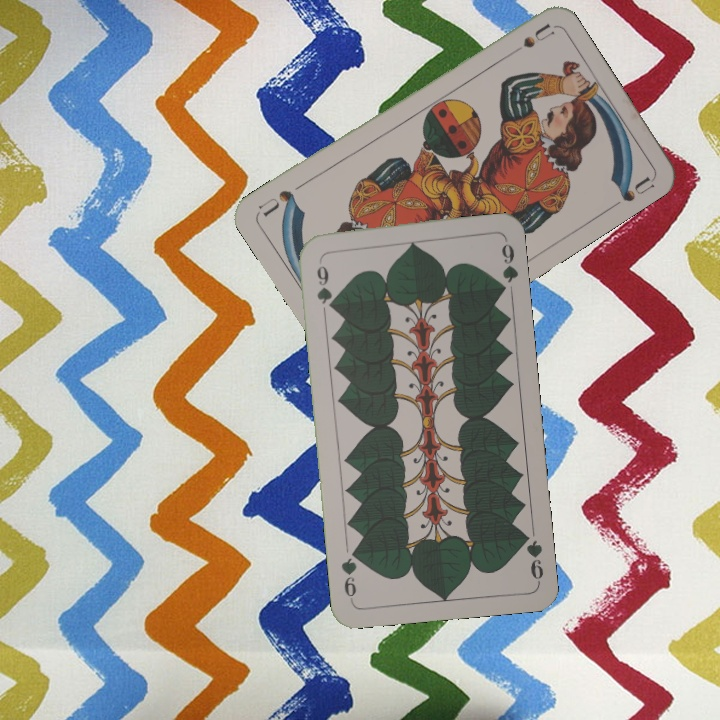G9: (517, 527, 546, 585), (313, 255, 337, 313)
SU: (501, 19, 556, 59)
